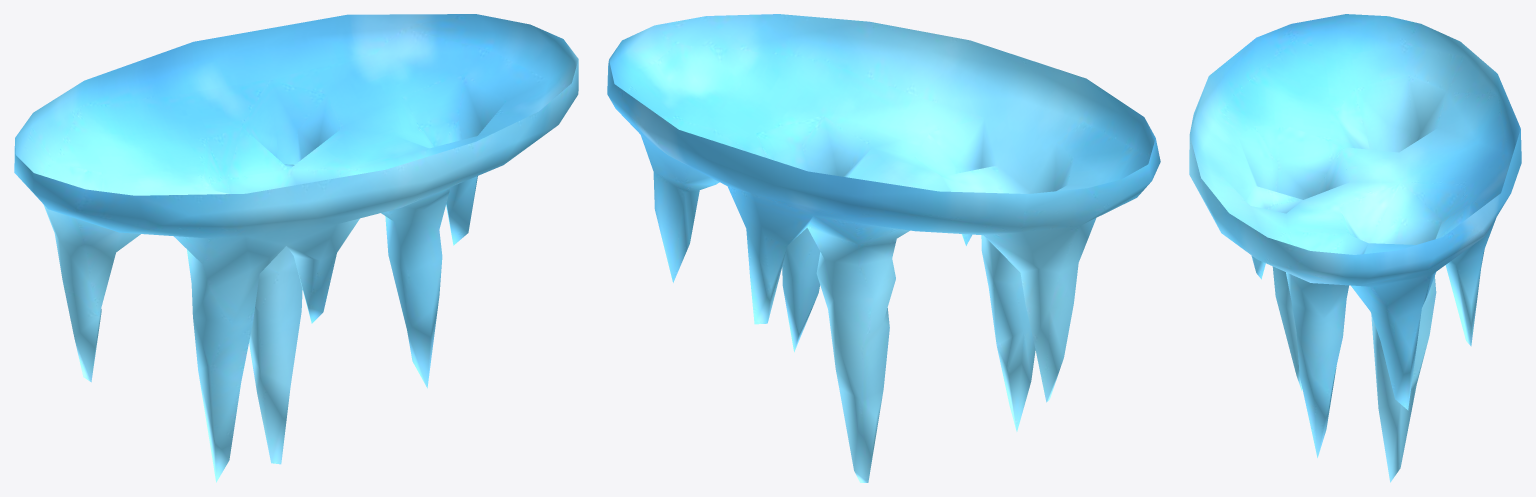
The model's file is SM_Icicle_Cluster_1.glb.
3 renders of one model, left to right at view 1: azimuth 30°, elevation 25°; view 2: azimuth 150°, elevation 25°; view 3: azimuth 270°, elevation 25°, orthographic. The views are drawn at different scales.
Parts seen in each view (by area): view 1: SM_Icicle_Cluster_1; view 2: SM_Icicle_Cluster_1; view 3: SM_Icicle_Cluster_1.
Boxes of the visible parts, x1,y1,x2,y2 form: SM_Icicle_Cluster_1: (14,14,578,482); SM_Icicle_Cluster_1: (607,14,1160,482); SM_Icicle_Cluster_1: (1189,14,1521,482).
Size of the model in its own units: 0.9464 by 0.6294 by 0.5474.
Materials: 1 (1 with a texture image).
